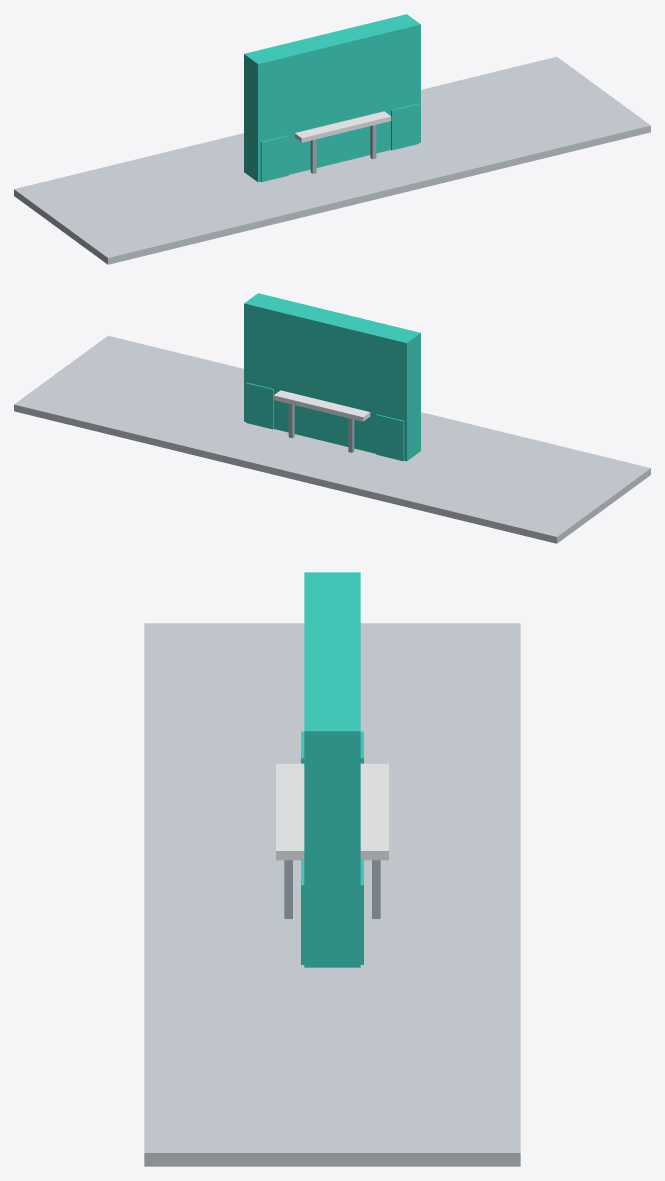
The picture shows the model from 3 angles, top to bottom: view 1: azimuth 30°, elevation 25°; view 2: azimuth 150°, elevation 25°; view 3: azimuth 270°, elevation 25°; orthographic projection. The views are drawn at different scales.
Visible parts, largest first — view 1: Exhibition Booth Concept; view 2: Exhibition Booth Concept; view 3: Exhibition Booth Concept.
Boxes of the visible parts, bbox=[...] form: Exhibition Booth Concept: bbox=[14, 14, 650, 264]; Exhibition Booth Concept: bbox=[14, 293, 650, 543]; Exhibition Booth Concept: bbox=[144, 572, 520, 1166].
Size of the model in its own units: 10 by 2.2 by 3.
